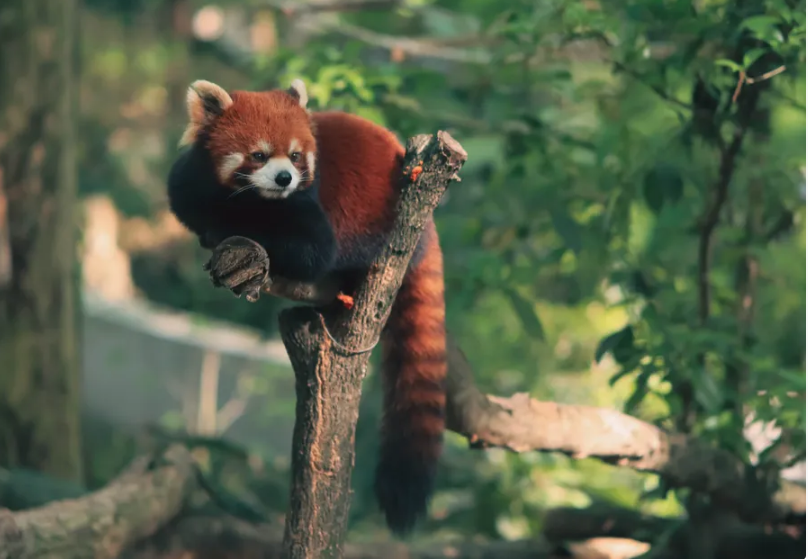red_panda: (175, 71, 409, 290)
